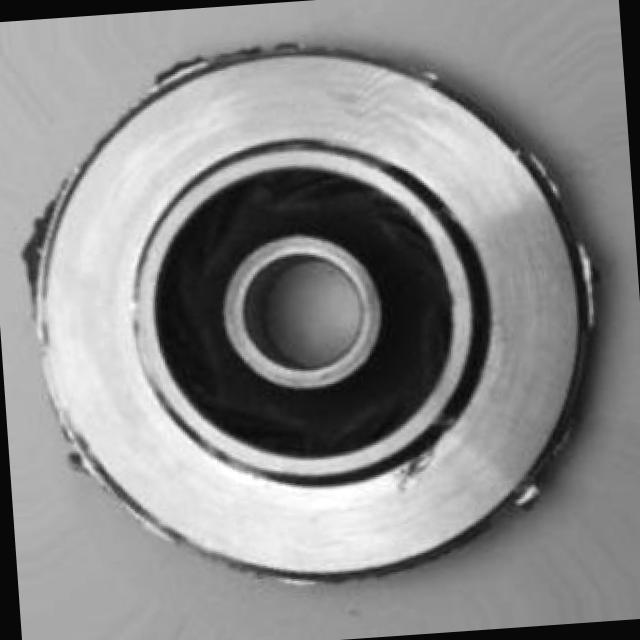Defect: (137, 46, 236, 97), (12, 212, 59, 298), (529, 144, 577, 205), (389, 444, 446, 482)
